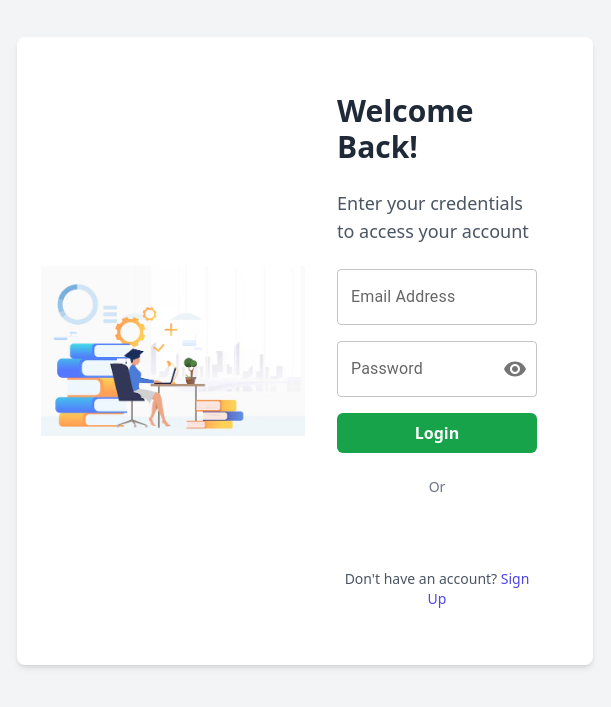
Test: LoginForm Component › Form Validation › shows validation error for short password
Type "test@example.com" into the field labelled "Email Address" at x=437, y=297, box [337, 269, 537, 325]
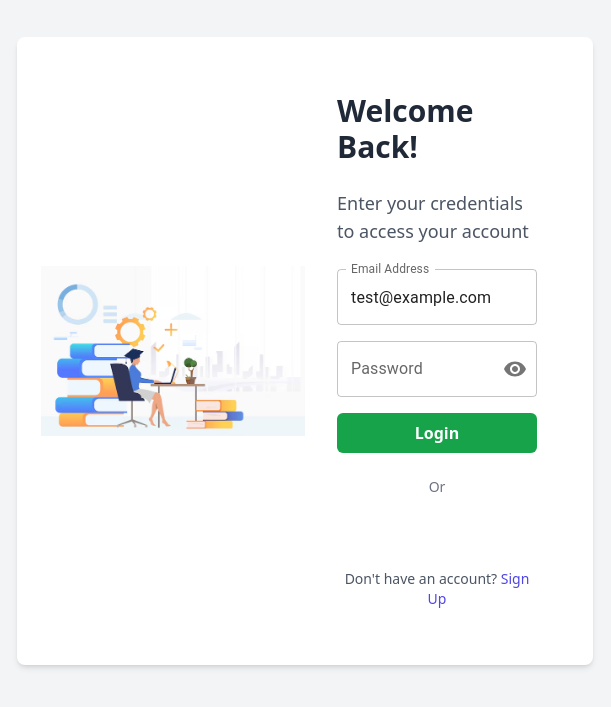
Type "123" into the password field labelled "Password" at x=412, y=369, box [337, 341, 487, 397]
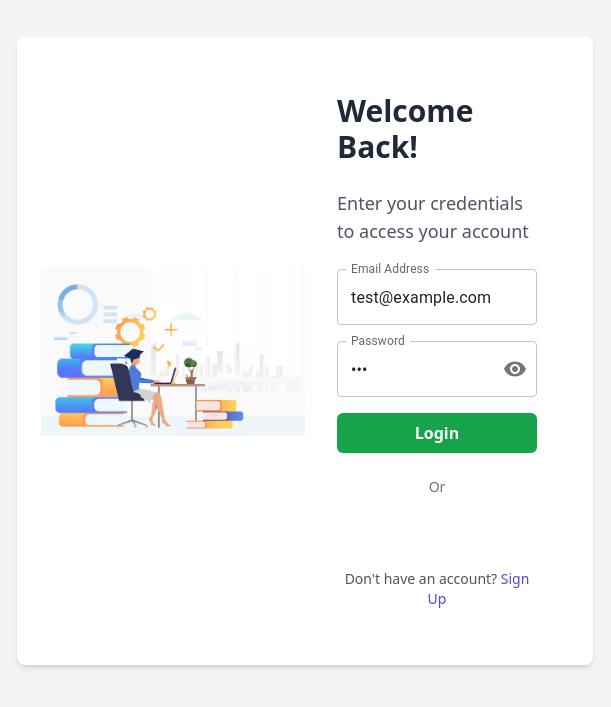
Click the button "Login" at x=437, y=433, box [337, 413, 537, 453]
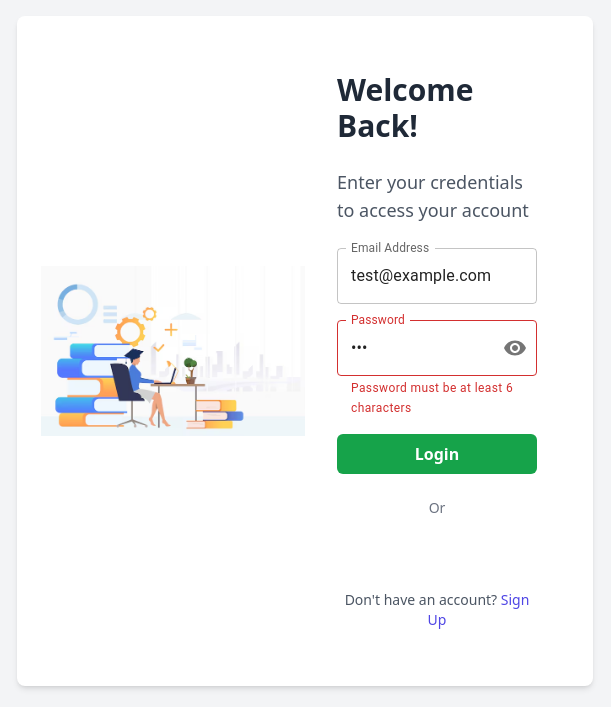
Check: the text "Password must be at least 6 characters" is shown, box [351, 379, 523, 418]
